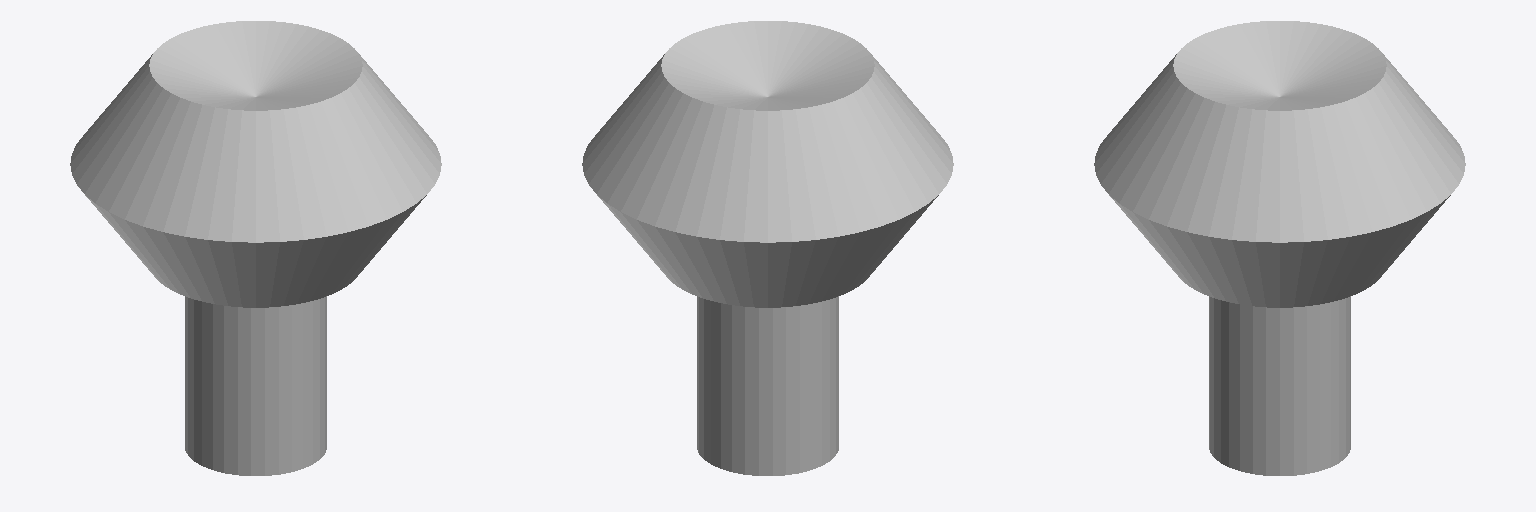
The model's file is bumper.obj.
The picture shows the model from 3 angles: view 1: azimuth 30°, elevation 25°; view 2: azimuth 150°, elevation 25°; view 3: azimuth 270°, elevation 25°; orthographic projection.
Parts seen in each view (by area): view 1: Cylinder; view 2: Cylinder; view 3: Cylinder.
Part boxes in pixels (x1,y1,x2,y2): Cylinder: (70,21,441,475); Cylinder: (582,21,953,475); Cylinder: (1094,21,1465,475).
Size of the model in its own units: 1.3 by 1.47 by 1.3.